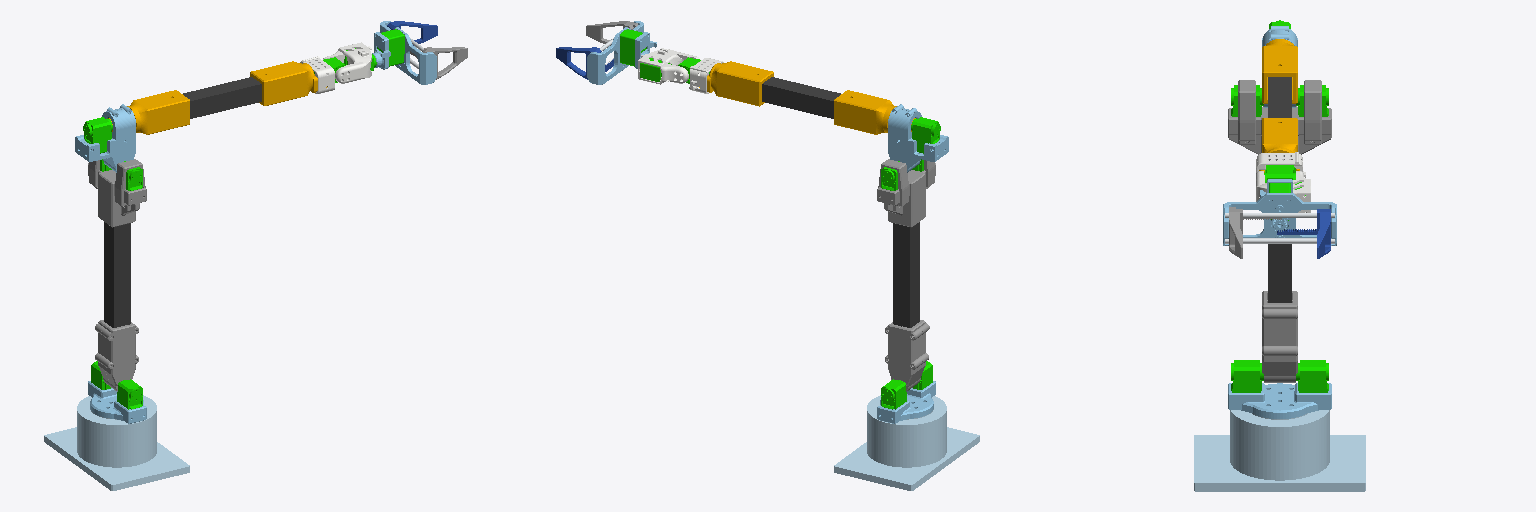
URDF robot description (sopo):
<?xml version='1.0' encoding='utf-8'?>
<robot name="sopo">
  <link name="base_link">
    <inertial>
      <origin xyz="0 0 0" />
      <mass value="1e-09" />
      <inertia ixx="1e-09" ixy="0" ixz="0" iyy="1e-09" iyz="0" izz="1e-09" />
    </inertial>
  </link>
  <link name="sopo_desktop_base">
    <inertial>
      <origin xyz="-1.2757e-08 -0.00262566 0.0390895" rpy="0 0 0" />
      <mass value="1.25391" />
      <inertia ixx="0.00204443" ixy="4.2e-11" ixz="3.31e-10" iyy="0.00254193" iyz="-1.44594e-05" izz="0.00302347" />
    </inertial>
    <visual>
      <origin xyz="-0 0 0.0637" rpy="0 -0 0" />
      <geometry>
        <mesh filename="assets/simple61814.stl" />
      </geometry>
      <material name="simple61814_material">
        <color rgba="0.917647 0.917647 0.917647 1" />
      </material>
    </visual>
    <collision>
      <origin xyz="-0 0 0.0637" rpy="0 -0 0" />
      <geometry>
        <mesh filename="assets/simple61814_collision.stl" />
      </geometry>
    </collision>
    <visual>
      <origin xyz="0 0 0.0637" rpy="0 -0 0" />
      <geometry>
        <mesh filename="assets/simple_sm8512bl.stl" />
      </geometry>
      <material name="simple_sm8512bl_material">
        <color rgba="0.917647 0.917647 0.917647 1" />
      </material>
    </visual>
    <collision>
      <origin xyz="0 0 0.0637" rpy="0 -0 0" />
      <geometry>
        <mesh filename="assets/simple_sm8512bl_collision.stl" />
      </geometry>
    </collision>
    <visual>
      <origin xyz="-0 0 0.0637" rpy="0 -0 0" />
      <geometry>
        <mesh filename="assets/sopo_desktop_base.stl" />
      </geometry>
      <material name="sopo_desktop_base_material">
        <color rgba="0.768627 0.886275 0.952941 1" />
      </material>
    </visual>
    <collision>
      <origin xyz="-0 0 0.0637" rpy="0 -0 0" />
      <geometry>
        <mesh filename="assets/sopo_desktop_base_collision.stl" />
      </geometry>
    </collision>
  </link>
  <link name="link_1">
    <inertial>
      <origin xyz="6.52594e-12 1.26882e-07 -0.00833285" rpy="0 0 0" />
      <mass value="1.192" />
      <inertia ixx="0.000400582" ixy="-5.4495e-12" ixz="-4.61263e-14" iyy="0.00113655" iyz="6.04175e-10" izz="0.00129419" />
    </inertial>
    <visual>
      <origin xyz="-0 -0 -0.0632" rpy="3.14159 -0 -0" />
      <geometry>
        <mesh filename="assets/joint_2_simple_sts3250.stl" />
      </geometry>
      <material name="joint_2_simple_sts3250_material">
        <color rgba="0.141176 0.917647 0.0235294 1" />
      </material>
    </visual>
    <collision>
      <origin xyz="-0 -0 -0.0632" rpy="3.14159 -0 -0" />
      <geometry>
        <mesh filename="assets/joint_2_simple_sts3250_collision.stl" />
      </geometry>
    </collision>
    <visual>
      <origin xyz="-0 -0 -0.0632" rpy="3.14159 -0 -0" />
      <geometry>
        <mesh filename="assets/link1.stl" />
      </geometry>
      <material name="link1_material">
        <color rgba="0.615686 0.811765 0.929412 1" />
      </material>
    </visual>
    <collision>
      <origin xyz="-0 -0 -0.0632" rpy="3.14159 -0 -0" />
      <geometry>
        <mesh filename="assets/link1_collision.stl" />
      </geometry>
    </collision>
    <visual>
      <origin xyz="-0 0 -0.0632" rpy="3.14159 -0 -0" />
      <geometry>
        <mesh filename="assets/joint_2_simple_sts3250__2.stl" />
      </geometry>
      <material name="joint_2_simple_sts3250_2_material">
        <color rgba="0.141176 0.917647 0.0235294 1" />
      </material>
    </visual>
    <collision>
      <origin xyz="-0 0 -0.0632" rpy="3.14159 -0 -0" />
      <geometry>
        <mesh filename="assets/joint_2_simple_sts3250__2_collision.stl" />
      </geometry>
    </collision>
  </link>
  <link name="link_2">
    <inertial>
      <origin xyz="-8.93706e-06 -0.221925 -0.018501" rpy="0 0 0" />
      <mass value="0.424" />
      <inertia ixx="0.0067438" ixy="-2.6255e-07" ixz="-1.04868e-08" iyy="0.000364976" iyz="5.74872e-08" izz="0.00647589" />
    </inertial>
    <visual>
      <origin xyz="0 -0.0219 -0.0185" rpy="1.5708 1.5708 0" />
      <geometry>
        <mesh filename="assets/link_2_pipe.stl" />
      </geometry>
      <material name="link_2_pipe_material">
        <color rgba="0.301961 0.301961 0.301961 1" />
      </material>
    </visual>
    <collision>
      <origin xyz="0 -0.0219 -0.0185" rpy="1.5708 1.5708 0" />
      <geometry>
        <mesh filename="assets/link_2_pipe.stl" />
      </geometry>
    </collision>
    <visual>
      <origin xyz="5.48697e-07 -0.3428 -0.0185" rpy="-0 1.5708 0" />
      <geometry>
        <mesh filename="assets/link_2_holder.stl" />
      </geometry>
      <material name="link_2_holder_material">
        <color rgba="0.647059 0.647059 0.647059 1" />
      </material>
    </visual>
    <collision>
      <origin xyz="5.48697e-07 -0.3428 -0.0185" rpy="-0 1.5708 0" />
      <geometry>
        <mesh filename="assets/link_2_holder_collision.stl" />
      </geometry>
    </collision>
    <visual>
      <origin xyz="0 -0.022 -0.0185" rpy="1.5708 1.5708 0" />
      <geometry>
        <mesh filename="assets/link_2_holder__2.stl" />
      </geometry>
      <material name="link_2_holder_2_material">
        <color rgba="0.647059 0.647059 0.647059 1" />
      </material>
    </visual>
    <collision>
      <origin xyz="0 -0.022 -0.0185" rpy="1.5708 1.5708 0" />
      <geometry>
        <mesh filename="assets/link_2_holder__2_collision.stl" />
      </geometry>
    </collision>
    <visual>
      <origin xyz="5.48697e-07 -0.3428 -0.0185" rpy="-0 1.5708 0" />
      <geometry>
        <mesh filename="assets/joint_3_simple_sts3250.stl" />
      </geometry>
      <material name="joint_3_simple_sts3250_material">
        <color rgba="0.141176 0.917647 0.0235294 1" />
      </material>
    </visual>
    <collision>
      <origin xyz="5.48697e-07 -0.3428 -0.0185" rpy="-0 1.5708 0" />
      <geometry>
        <mesh filename="assets/joint_3_simple_sts3250_collision.stl" />
      </geometry>
    </collision>
    <visual>
      <origin xyz="5.48697e-07 -0.3428 -0.0185" rpy="-0 1.5708 0" />
      <geometry>
        <mesh filename="assets/joint_3_simple_sts3250__2.stl" />
      </geometry>
      <material name="joint_3_simple_sts3250_2_material">
        <color rgba="0.141176 0.917647 0.0235294 1" />
      </material>
    </visual>
    <collision>
      <origin xyz="5.48697e-07 -0.3428 -0.0185" rpy="-0 1.5708 0" />
      <geometry>
        <mesh filename="assets/joint_3_simple_sts3250__2_collision.stl" />
      </geometry>
    </collision>
  </link>
  <link name="link_3">
    <inertial>
      <origin xyz="-0.0425406 0.0202045 -0.0185133" rpy="0 0 0" />
      <mass value="0.1305" />
      <inertia ixx="6.11542e-05" ixy="1.15406e-05" ixz="1.44851e-08" iyy="5.79705e-05" iyz="2.09268e-08" izz="9.52165e-05" />
    </inertial>
    <visual>
      <origin xyz="-0.0619 -0.068 -0.0185" rpy="-3.14159 1.5708 0" />
      <geometry>
        <mesh filename="assets/link_3.stl" />
      </geometry>
      <material name="link_3_material">
        <color rgba="0.615686 0.811765 0.929412 1" />
      </material>
    </visual>
    <collision>
      <origin xyz="-0.0619 -0.068 -0.0185" rpy="-3.14159 1.5708 0" />
      <geometry>
        <mesh filename="assets/link_3_collision.stl" />
      </geometry>
    </collision>
    <visual>
      <origin xyz="-0.0619 -0.068 -0.0185" rpy="-3.14159 1.5708 0" />
      <geometry>
        <mesh filename="assets/joint_4_simple_sts3250.stl" />
      </geometry>
      <material name="joint_4_simple_sts3250_material">
        <color rgba="0.141176 0.917647 0.0235294 1" />
      </material>
    </visual>
    <collision>
      <origin xyz="-0.0619 -0.068 -0.0185" rpy="-3.14159 1.5708 0" />
      <geometry>
        <mesh filename="assets/joint_4_simple_sts3250_collision.stl" />
      </geometry>
    </collision>
  </link>
  <link name="link_4">
    <inertial>
      <origin xyz="4.38776e-05 -0.000294806 -0.223898" rpy="0 0 0" />
      <mass value="0.307" />
      <inertia ixx="0.00433331" ixy="9.62693e-09" ixz="1.60982e-06" iyy="0.00434083" iyz="-1.02205e-05" izz="8.2126e-05" />
    </inertial>
    <visual>
      <origin xyz="-0 -4.64429e-07 -0.081" rpy="-1.5708 -0 -0" />
      <geometry>
        <mesh filename="assets/link_4_pipe.stl" />
      </geometry>
      <material name="link_4_pipe_material">
        <color rgba="0.301961 0.301961 0.301961 1" />
      </material>
    </visual>
    <collision>
      <origin xyz="-0 -4.64429e-07 -0.081" rpy="-1.5708 -0 -0" />
      <geometry>
        <mesh filename="assets/link_4_pipe.stl" />
      </geometry>
    </collision>
    <visual>
      <origin xyz="-0 0 -0.081" rpy="-1.5708 -0 -0" />
      <geometry>
        <mesh filename="assets/link_4_hold_1.stl" />
      </geometry>
      <material name="link_4_hold_1_material">
        <color rgba="0.980392 0.713725 0.00392157 1" />
      </material>
    </visual>
    <collision>
      <origin xyz="-0 0 -0.081" rpy="-1.5708 -0 -0" />
      <geometry>
        <mesh filename="assets/link_4_hold_1_collision.stl" />
      </geometry>
    </collision>
    <visual>
      <origin xyz="-0 0 -0.081" rpy="-1.5708 -0 -0" />
      <geometry>
        <mesh filename="assets/simple_6704.stl" />
      </geometry>
      <material name="simple_6704_material">
        <color rgba="0.231373 0.380392 0.705882 1" />
      </material>
    </visual>
    <collision>
      <origin xyz="-0 0 -0.081" rpy="-1.5708 -0 -0" />
      <geometry>
        <mesh filename="assets/simple_6704.stl" />
      </geometry>
    </collision>
    <visual>
      <origin xyz="-0 0 -0.081" rpy="-1.5708 -0 -0" />
      <geometry>
        <mesh filename="assets/simple_6704__2.stl" />
      </geometry>
      <material name="simple_6704_2_material">
        <color rgba="0.231373 0.380392 0.705882 1" />
      </material>
    </visual>
    <collision>
      <origin xyz="-0 0 -0.081" rpy="-1.5708 -0 -0" />
      <geometry>
        <mesh filename="assets/simple_6704__2.stl" />
      </geometry>
    </collision>
    <visual>
      <origin xyz="-0 -9.3933e-07 -0.433326" rpy="1.5708 0 3.14159" />
      <geometry>
        <mesh filename="assets/link_4_holder2.stl" />
      </geometry>
      <material name="link_4_holder2_material">
        <color rgba="0.980392 0.713725 0.00392157 1" />
      </material>
    </visual>
    <collision>
      <origin xyz="-0 -9.3933e-07 -0.433326" rpy="1.5708 0 3.14159" />
      <geometry>
        <mesh filename="assets/link_4_holder2_collision.stl" />
      </geometry>
    </collision>
    <visual>
      <origin xyz="-0 -9.3933e-07 -0.433326" rpy="1.5708 0 3.14159" />
      <geometry>
        <mesh filename="assets/joint_5_simple_sts3215_12v.stl" />
      </geometry>
      <material name="joint_5_simple_sts3215_12v_material">
        <color rgba="0.141176 0.917647 0.0235294 1" />
      </material>
    </visual>
    <collision>
      <origin xyz="-0 -9.3933e-07 -0.433326" rpy="1.5708 0 3.14159" />
      <geometry>
        <mesh filename="assets/joint_5_simple_sts3215_12v_collision.stl" />
      </geometry>
    </collision>
    <visual>
      <origin xyz="-0 -9.3933e-07 -0.433326" rpy="1.5708 0 3.14159" />
      <geometry>
        <mesh filename="assets/link_4_holder_3.stl" />
      </geometry>
      <material name="link_4_holder_3_material">
        <color rgba="0.964706 0.964706 0.952941 1" />
      </material>
    </visual>
    <collision>
      <origin xyz="-0 -9.3933e-07 -0.433326" rpy="1.5708 0 3.14159" />
      <geometry>
        <mesh filename="assets/link_4_holder_3_collision.stl" />
      </geometry>
    </collision>
  </link>
  <link name="link_5">
    <inertial>
      <origin xyz="-0.0377441 -0.000117368 -0.0276506" rpy="0 0 0" />
      <mass value="0.087" />
      <inertia ixx="2.9179e-05" ixy="2.21139e-08" ixz="-4.59611e-06" iyy="4.33553e-05" iyz="6.12736e-08" izz="2.49327e-05" />
    </inertial>
    <visual>
      <origin xyz="-0.0611 1.2e-11 -0.0185" rpy="1.5708 1.5708 0" />
      <geometry>
        <mesh filename="assets/link_5.stl" />
      </geometry>
      <material name="link_5_material">
        <color rgba="0.964706 0.964706 0.952941 1" />
      </material>
    </visual>
    <collision>
      <origin xyz="-0.0611 1.2e-11 -0.0185" rpy="1.5708 1.5708 0" />
      <geometry>
        <mesh filename="assets/link_5_collision.stl" />
      </geometry>
    </collision>
    <visual>
      <origin xyz="-0.0611 1.2e-11 -0.0185" rpy="1.5708 1.5708 0" />
      <geometry>
        <mesh filename="assets/joint_6_simple_sts3215_12v.stl" />
      </geometry>
      <material name="joint_6_simple_sts3215_12v_material">
        <color rgba="0.141176 0.917647 0.0235294 1" />
      </material>
    </visual>
    <collision>
      <origin xyz="-0.0611 1.2e-11 -0.0185" rpy="1.5708 1.5708 0" />
      <geometry>
        <mesh filename="assets/joint_6_simple_sts3215_12v_collision.stl" />
      </geometry>
    </collision>
  </link>
  <link name="ee">
    <inertial>
      <origin xyz="-0.000252775 -0.00393924 -0.0422792" rpy="0 0 0" />
      <mass value="0.522" />
      <inertia ixx="0.000276572" ixy="-1.4228e-06" ixz="3.41298e-06" iyy="0.000845507" iyz="2.60456e-05" izz="0.000842076" />
    </inertial>
    <visual>
      <origin xyz="-3.99459e-05 -0.0269979 -0.079" rpy="-1.5708 -0 -0" />
      <geometry>
        <mesh filename="assets/rod_d6_125.stl" />
      </geometry>
      <material name="rod_d6_125_material">
        <color rgba="0.898039 0.917647 0.929412 1" />
      </material>
    </visual>
    <collision>
      <origin xyz="-3.99459e-05 -0.0269979 -0.079" rpy="-1.5708 -0 -0" />
      <geometry>
        <mesh filename="assets/rod_d6_125.stl" />
      </geometry>
    </collision>
    <visual>
      <origin xyz="-3.99459e-05 0.00500208 -0.047" rpy="-1.5708 -0 -0" />
      <geometry>
        <mesh filename="assets/rod_d6_125__2.stl" />
      </geometry>
      <material name="rod_d6_125_2_material">
        <color rgba="0.898039 0.917647 0.929412 1" />
      </material>
    </visual>
    <collision>
      <origin xyz="-3.99459e-05 0.00500208 -0.047" rpy="-1.5708 -0 -0" />
      <geometry>
        <mesh filename="assets/rod_d6_125__2.stl" />
      </geometry>
    </collision>
    <visual>
      <origin xyz="-3.99459e-05 2.07734e-06 -0.052" rpy="-3.14159 0 -0" />
      <geometry>
        <mesh filename="assets/simple_motor.stl" />
      </geometry>
      <material name="simple_motor_material">
        <color rgba="0.141176 0.917647 0.0235294 1" />
      </material>
    </visual>
    <collision>
      <origin xyz="-3.99459e-05 2.07734e-06 -0.052" rpy="-3.14159 0 -0" />
      <geometry>
        <mesh filename="assets/simple_motor_collision.stl" />
      </geometry>
    </collision>
    <visual>
      <origin xyz="-3.99459e-05 2.07734e-06 -0.052" rpy="3.14159 -0 -0" />
      <geometry>
        <mesh filename="assets/ee.stl" />
      </geometry>
      <material name="ee_material">
        <color rgba="0.615686 0.811765 0.929412 1" />
      </material>
    </visual>
    <collision>
      <origin xyz="-3.99459e-05 2.07734e-06 -0.052" rpy="3.14159 -0 -0" />
      <geometry>
        <mesh filename="assets/ee_collision.stl" />
      </geometry>
    </collision>
  </link>
  <link name="right_finger">
    <inertial>
      <origin xyz="-0.0144477 -0.0150978 -0.0105871" rpy="0 0 0" />
      <mass value="0.154" />
      <inertia ixx="9.1352e-05" ixy="-5.83096e-06" ixz="2.48192e-06" iyy="4.05364e-05" iyz="1.77549e-06" izz="0.000103658" />
    </inertial>
    <visual>
      <origin xyz="-0.016 0.011 -0.058" rpy="1.5708 1.5708 0" />
      <geometry>
        <mesh filename="assets/right_finger.stl" />
      </geometry>
      <material name="right_finger_material">
        <color rgba="0.647059 0.647059 0.647059 1" />
      </material>
    </visual>
    <collision>
      <origin xyz="-0.016 0.011 -0.058" rpy="1.5708 1.5708 0" />
      <geometry>
        <mesh filename="assets/right_finger_collision.stl" />
      </geometry>
    </collision>
  </link>
  <joint name="right_finger_joint" type="prismatic">
    <origin xyz="-0.0580399 -0.0159979 -0.063" rpy="1.5708 0 -1.5708" />
    <parent link="ee" />
    <child link="right_finger" />
    <axis xyz="0 0 1" />
    <limit effort="1.5" velocity="0.05" lower="-0.042" upper="0" />
  </joint>
  <link name="left_finger">
    <inertial>
      <origin xyz="-0.0175523 0.0150978 -0.0105871" rpy="0 0 0" />
      <mass value="0.154" />
      <inertia ixx="9.1352e-05" ixy="-5.83096e-06" ixz="-2.48192e-06" iyy="4.05364e-05" iyz="-1.77549e-06" izz="0.000103658" />
    </inertial>
    <visual>
      <origin xyz="-0.016 -0.011 -0.058" rpy="-1.5708 -1.5708 0" />
      <geometry>
        <mesh filename="assets/left_finger.stl" />
      </geometry>
      <material name="left_finger_material">
        <color rgba="0.231373 0.380392 0.705882 1" />
      </material>
    </visual>
    <collision>
      <origin xyz="-0.016 -0.011 -0.058" rpy="-1.5708 -1.5708 0" />
      <geometry>
        <mesh filename="assets/left_finger_collision.stl" />
      </geometry>
    </collision>
  </link>
  <joint name="left_finger_joint" type="prismatic">
    <origin xyz="0.0579601 -0.0159979 -0.063" rpy="-1.5708 0 -1.5708" />
    <parent link="ee" />
    <child link="left_finger" />
    <axis xyz="0 0 1" />
    <limit effort="1.5" velocity="0.05" lower="-0.042" upper="0" />
    <mimic joint="right_finger_joint" multiplier="1" offset="0" />
  </joint>
  <joint name="joint_6" type="continuous">
    <origin xyz="-0.0611 1.2e-11 -0.0185" rpy="-0 1.5708 0" />
    <parent link="link_5" />
    <child link="ee" />
    <axis xyz="0 0 -1" />
    <limit effort="1.5" velocity="5.236" />
  </joint>
  <joint name="joint_5" type="revolute">
    <origin xyz="0.0185 -9.39318e-07 -0.372226" rpy="3.14159 -1.5708 0" />
    <parent link="link_4" />
    <child link="link_5" />
    <axis xyz="0 0 -1" />
    <limit effort="1.5" velocity="5.236" lower="-1.74533" upper="1.74533" />
  </joint>
  <joint name="joint_4" type="revolute">
    <origin xyz="-0.0619 0.013 -0.0185" rpy="-1.5708 1.5708 0" />
    <parent link="link_3" />
    <child link="link_4" />
    <axis xyz="0 0 -1" />
    <limit effort="1.6" velocity="7.85" lower="-3.14159" upper="3.14159" />
  </joint>
  <joint name="joint_3" type="revolute">
    <origin xyz="5.48697e-07 -0.3428 -0" rpy="-0 -0 1.5708" />
    <parent link="link_2" />
    <child link="link_3" />
    <axis xyz="0 0 1" />
    <limit effort="3.1" velocity="7.85" lower="-1.5708" upper="1.5708" />
  </joint>
  <joint name="joint_2" type="revolute">
    <origin xyz="-0.0185 0 -0.0412" rpy="1.5708 -0 -1.5708" />
    <parent link="link_1" />
    <child link="link_2" />
    <axis xyz="0 0 1" />
    <limit effort="3.1" velocity="7.85" lower="-1.65806" upper="1.65806" />
  </joint>
  <joint name="joint_1" type="revolute">
    <origin xyz="-0 -0 0.0777" rpy="-3.14159 0 -0" />
    <parent link="sopo_desktop_base" />
    <child link="link_1" />
    <axis xyz="0 0 -1" />
    <limit effort="2.7" velocity="6.28" lower="-3.14159265359" upper="3.14159265359" />
  </joint>
  <mujoco>
    <compiler discardvisual="false" />
  </mujoco>
  <joint name="base_fixed" type="fixed">
    <origin xyz="0 0 0" rpy="0 0 -1.57079633" />
    <parent link="base_link" />
    <child link="sopo_desktop_base" />
  </joint>
</robot>

--- Render facts (derived) ---
Views: 3 orthographic renders of the robot side by side, from view 1: azimuth 30°, elevation 25°; view 2: azimuth 150°, elevation 25°; view 3: azimuth 270°, elevation 25°.
Model sopo with 10 links and 9 joints (5 revolute, 1 continuous, 2 prismatic, 1 fixed), rooted at base_link, posed every joint at zero.
Links seen in each view (by area): view 1: link_2, sopo_desktop_base, link_4, link_3, ee, link_1, link_5, right_finger; view 2: link_2, sopo_desktop_base, link_4, link_3, link_1, ee, link_5, left_finger; view 3: sopo_desktop_base, link_2, link_4, link_1, ee, left_finger, right_finger, link_5, link_3.
Boxes of the visible links, box(x1,y1,x2,y2) form: link_2: box(88, 159, 146, 391); sopo_desktop_base: box(44, 395, 189, 490); link_4: box(108, 56, 345, 134); link_3: box(75, 104, 135, 172); ee: box(372, 21, 436, 84); link_1: box(88, 361, 146, 423); link_5: box(323, 42, 376, 83); right_finger: box(410, 47, 467, 79); link_2: box(877, 159, 935, 391); sopo_desktop_base: box(834, 395, 979, 490); link_4: box(678, 57, 915, 134); link_3: box(888, 104, 948, 172); link_1: box(877, 361, 935, 423); ee: box(587, 21, 656, 84); link_5: box(638, 48, 700, 84); left_finger: box(556, 47, 613, 79); sopo_desktop_base: box(1194, 410, 1365, 491); link_2: box(1228, 80, 1331, 382); link_4: box(1256, 39, 1305, 182); link_1: box(1228, 360, 1331, 418); ee: box(1223, 179, 1336, 245); left_finger: box(1277, 209, 1330, 258); right_finger: box(1229, 207, 1281, 258); link_5: box(1256, 171, 1310, 212); link_3: box(1262, 20, 1297, 107).
Bounding box of the posed robot: 0.6155 × 0.1947 × 0.5599 m (x, y, z).
27 mesh visuals loaded from 28 distinct referenced files (27 binary STL); not drawn: 1 (reference not matched to a file when rendering).
